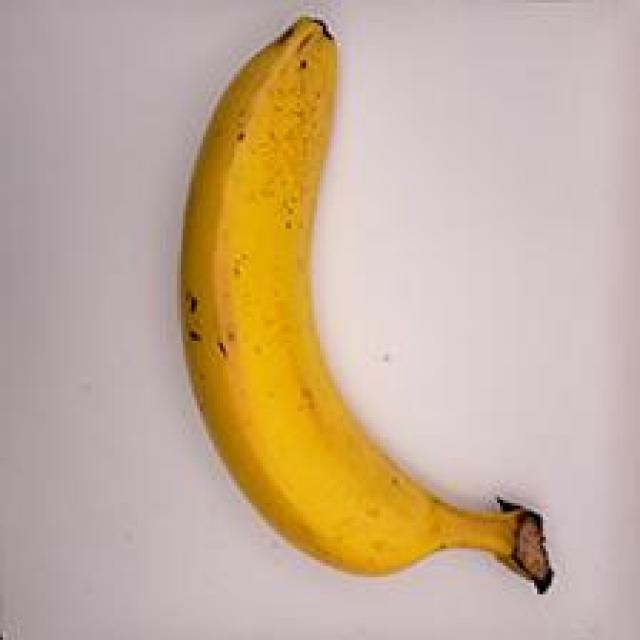Ripe: (158, 0, 560, 606)
